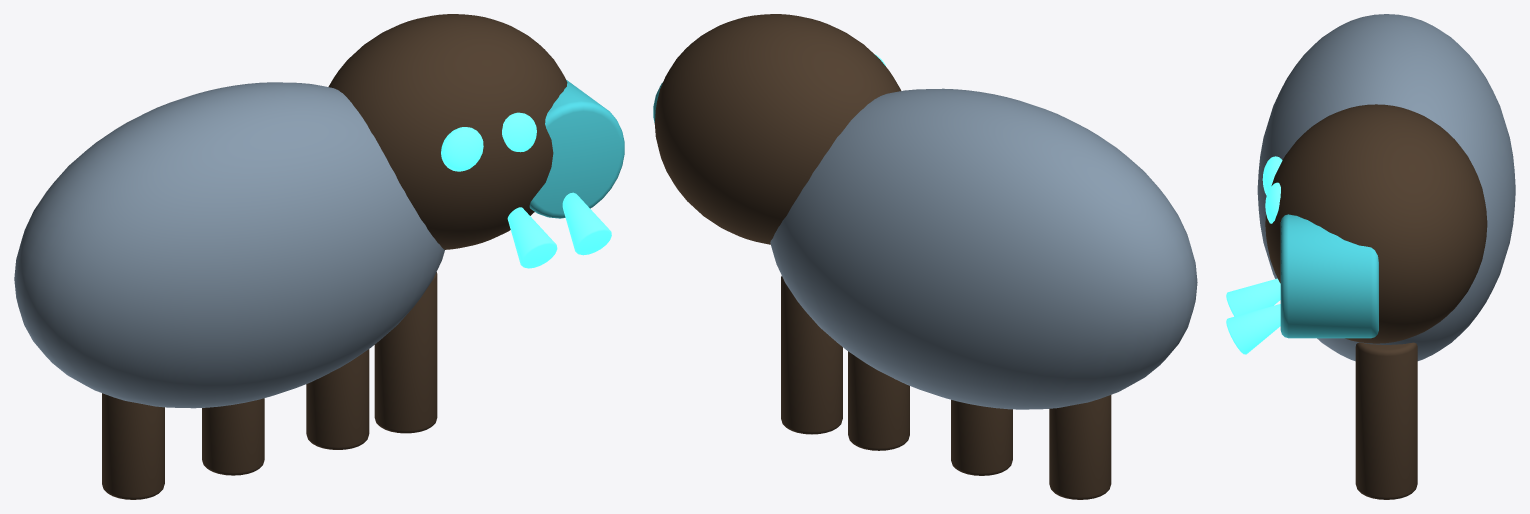
Rendered from beast_v3.glb.
The picture shows the model from 3 angles, left to right: view 1: azimuth 30°, elevation 25°; view 2: azimuth 150°, elevation 25°; view 3: azimuth 270°, elevation 25°; orthographic projection.
Visible parts, largest first — view 1: BOAR_BODY_PRIMARY, BOAR_HEAD_SECONDARY, BOAR_SNOUT_ACCENT, BOAR_LEG_SECONDARY.003, BOAR_LEG_SECONDARY, BOAR_LEG_SECONDARY.002, BOAR_LEG_SECONDARY.001, BOAR_TUSK_EMISSIVE.001, BOAR_TUSK_EMISSIVE, EYE_EMISSIVE, EYE_EMISSIVE.001; view 2: BOAR_BODY_PRIMARY, BOAR_HEAD_SECONDARY, BOAR_LEG_SECONDARY.003, BOAR_LEG_SECONDARY, BOAR_LEG_SECONDARY.002, BOAR_LEG_SECONDARY.001; view 3: BOAR_HEAD_SECONDARY, BOAR_BODY_PRIMARY, BOAR_SNOUT_ACCENT, BOAR_LEG_SECONDARY.003, BOAR_TUSK_EMISSIVE.001, BOAR_TUSK_EMISSIVE, EYE_EMISSIVE.001, EYE_EMISSIVE.
Part boxes in pixels (x1,y1,x2,y2): BOAR_BODY_PRIMARY: (14, 82, 444, 408); BOAR_HEAD_SECONDARY: (328, 14, 567, 249); BOAR_SNOUT_ACCENT: (529, 79, 624, 218); BOAR_LEG_SECONDARY.003: (374, 272, 437, 433); BOAR_LEG_SECONDARY: (102, 393, 164, 499); BOAR_LEG_SECONDARY.002: (306, 349, 369, 449); BOAR_LEG_SECONDARY.001: (202, 398, 264, 475); BOAR_TUSK_EMISSIVE.001: (562, 192, 611, 255); BOAR_TUSK_EMISSIVE: (507, 207, 557, 268); EYE_EMISSIVE: (441, 127, 483, 171); EYE_EMISSIVE.001: (502, 112, 536, 152); BOAR_BODY_PRIMARY: (770, 88, 1197, 409); BOAR_HEAD_SECONDARY: (654, 14, 901, 244); BOAR_LEG_SECONDARY.003: (781, 276, 842, 434); BOAR_LEG_SECONDARY: (1049, 395, 1111, 499); BOAR_LEG_SECONDARY.002: (848, 351, 909, 450); BOAR_LEG_SECONDARY.001: (951, 400, 1012, 475); BOAR_HEAD_SECONDARY: (1265, 104, 1487, 343); BOAR_BODY_PRIMARY: (1257, 14, 1515, 361); BOAR_SNOUT_ACCENT: (1280, 214, 1378, 338); BOAR_LEG_SECONDARY.003: (1355, 342, 1417, 499); BOAR_TUSK_EMISSIVE.001: (1226, 304, 1280, 354); BOAR_TUSK_EMISSIVE: (1226, 278, 1280, 316); EYE_EMISSIVE.001: (1265, 182, 1280, 223); EYE_EMISSIVE: (1262, 156, 1282, 195).
Bounding box in the file's own units: 2.42 × 1.65 × 1.12.
